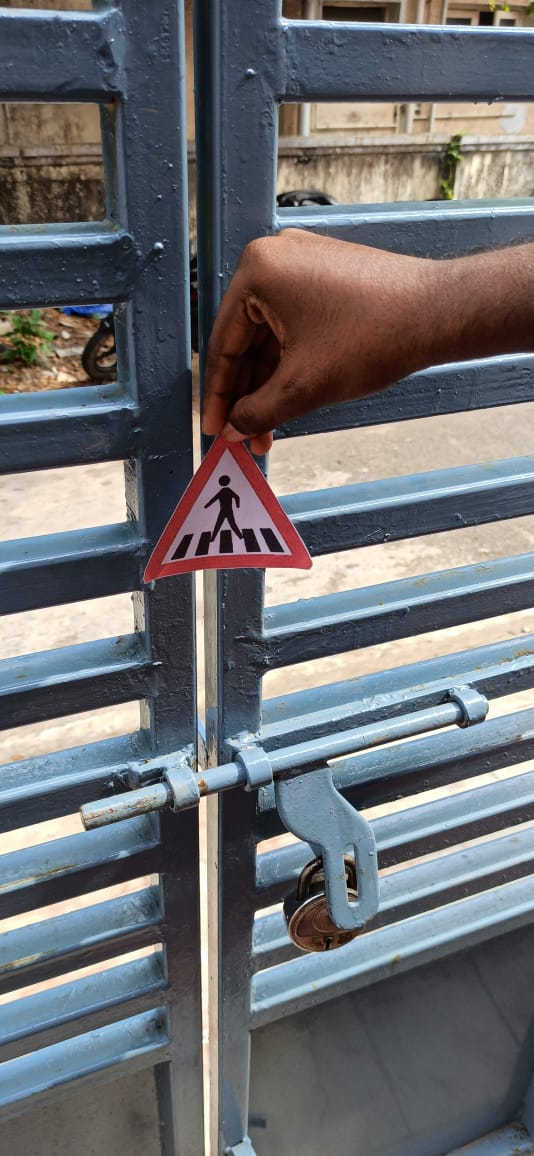PEDESTRIAN CROSSING: (128, 410, 344, 582)
